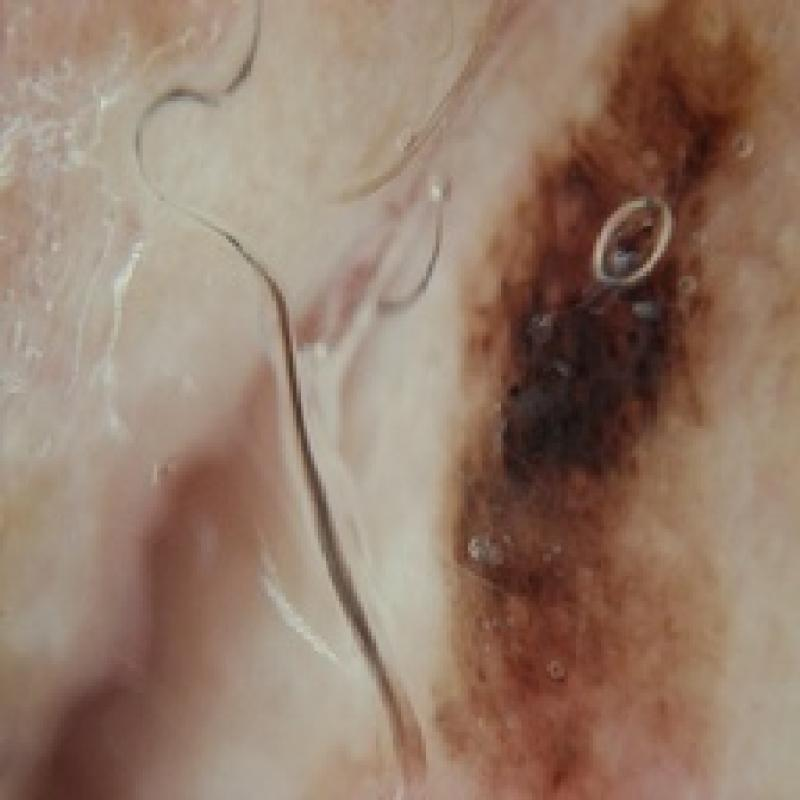malignant: (446, 0, 777, 784)
